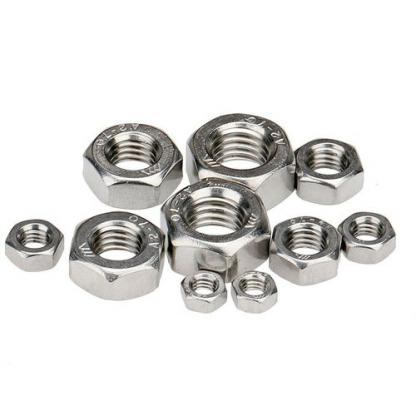FOD: (160, 177, 272, 281), (186, 112, 296, 209), (74, 122, 188, 211), (66, 210, 164, 301), (291, 133, 373, 206), (264, 213, 343, 284), (338, 208, 398, 268), (5, 215, 65, 274), (229, 267, 279, 315), (178, 269, 229, 312)
